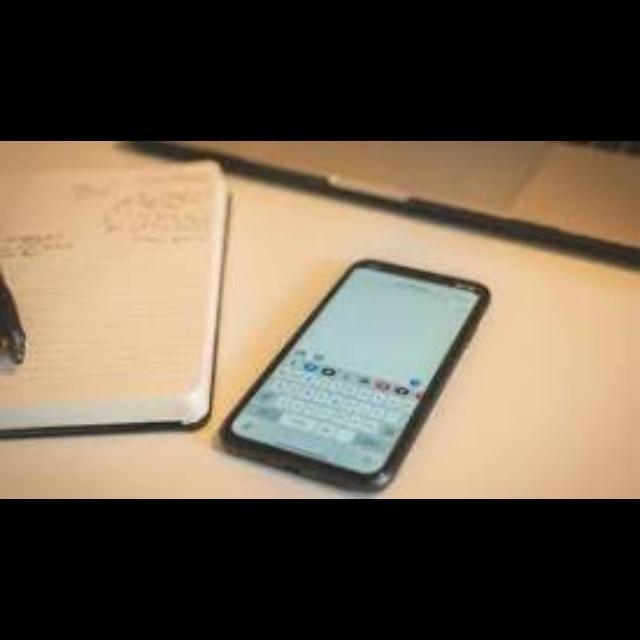PhoneUse: (222, 260, 490, 492)
